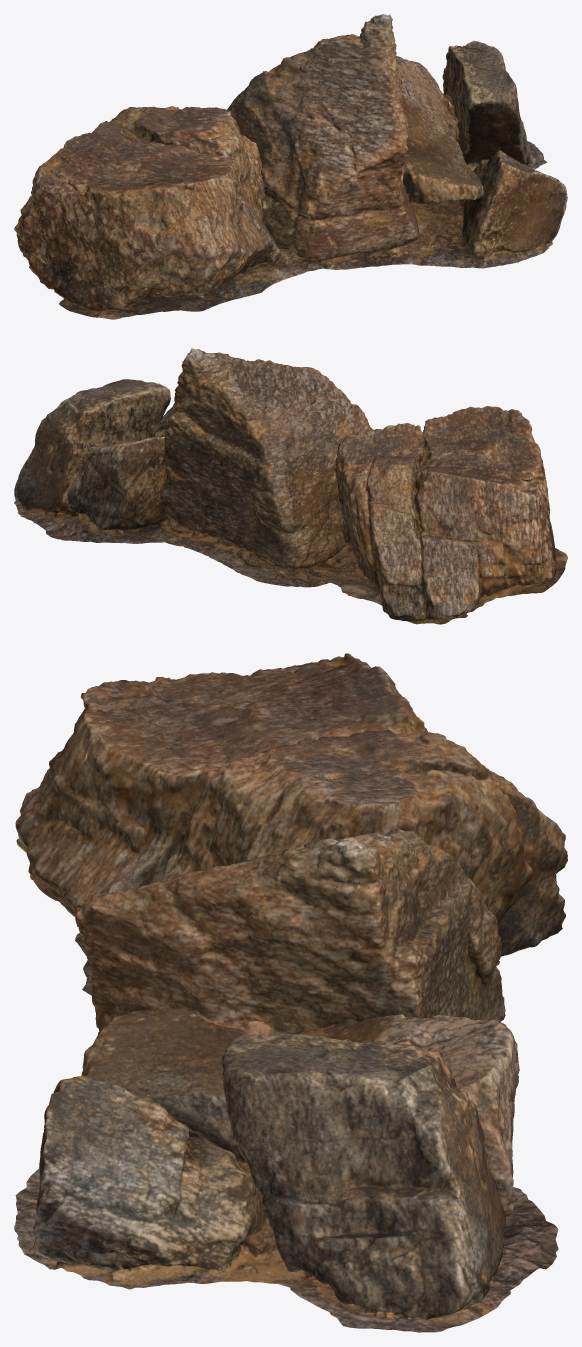
File: namaqualand_boulder_02_2k.fbx
3 renders of one model, top to bottom at view 1: azimuth 30°, elevation 25°; view 2: azimuth 150°, elevation 25°; view 3: azimuth 270°, elevation 25°, orthographic. The views are drawn at different scales.
Visible parts, largest first — view 1: namaqualand_boulder_02_LOD0; view 2: namaqualand_boulder_02_LOD0; view 3: namaqualand_boulder_02_LOD0.
Part boxes in pixels (x1=…): namaqualand_boulder_02_LOD0: x1=14, y1=14, x2=567, y2=319; namaqualand_boulder_02_LOD0: x1=14, y1=348, x2=567, y2=624; namaqualand_boulder_02_LOD0: x1=14, y1=653, x2=567, y2=1332.
Bounding box in the file's own units: 253 × 88.26 × 123.
1 material, 1 textured.
